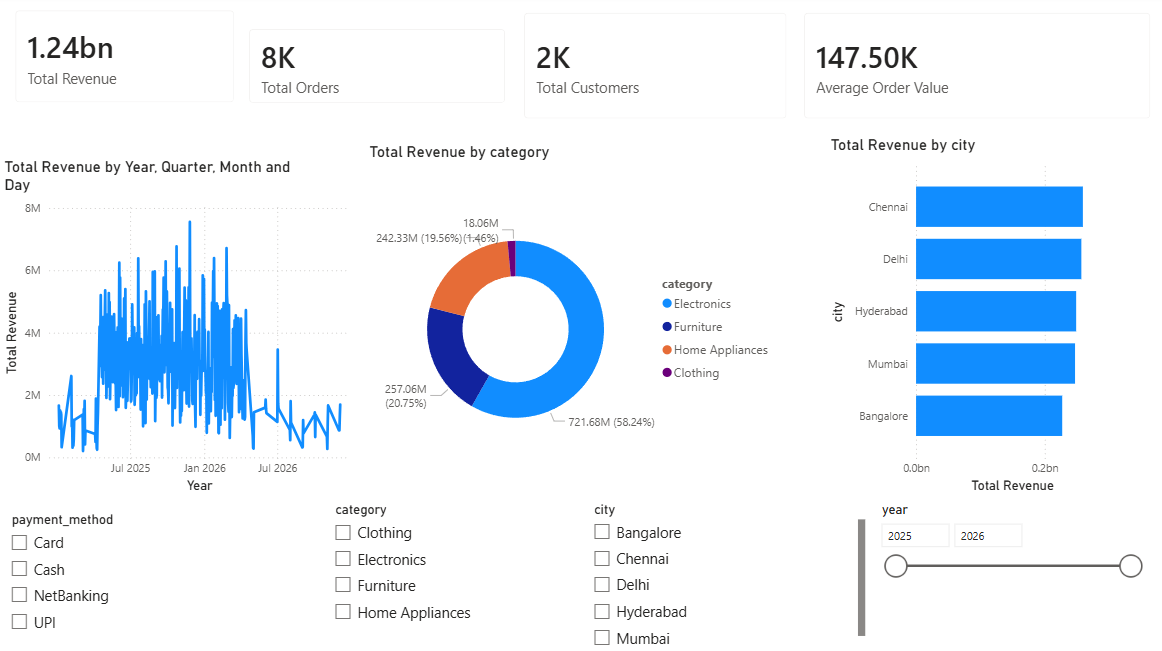

The dashboard page shown, as its layout file describes it:
{"tool":"powerbi","page":{"name":"Executive Summary","canvas":[1280,720],"ordinal":0},"visuals":[{"type":"cardVisual","fields":{"Data":["cleaned_retail_data.Total Revenue"]},"box":[0,0,274.4,135.8],"z":0},{"type":"cardVisual","fields":{"Data":["cleaned_retail_data.Total Orders"]},"box":[256.6,20.6,315.6,115.3],"z":1000},{"type":"cardVisual","fields":{"Data":["cleaned_retail_data.Total Customers"]},"box":[558.5,2.7,322.5,150.9],"z":2000},{"type":"cardVisual","fields":{"Data":["cleaned_retail_data.Average Order Value"]},"box":[865.9,2.7,414.4,150.9],"z":3000},{"type":"lineChart","fields":{"Y":["cleaned_retail_data.Total Revenue"],"Category":["cleaned_retail_data.transaction_date.Variation.Date Hierarchy.Year","cleaned_retail_data.transaction_date.Variation.Date Hierarchy.Quarter","cleaned_retail_data.transaction_date.Variation.Date Hierarchy.Month","cleaned_retail_data.transaction_date.Variation.Date Hierarchy.Day"]},"box":[0,178.4,400.7,373.2],"z":4000},{"type":"donutChart","fields":{"Category":["cleaned_retail_data.category"],"Y":["cleaned_retail_data.Total Revenue"]},"box":[400.7,161.9,456.9,389.7],"z":5000},{"type":"clusteredBarChart","fields":{"Category":["cleaned_retail_data.city"],"Y":["cleaned_retail_data.Total Revenue"]},"box":[907,153.7,330.7,397.9],"z":6000},{"type":"slicer","fields":{"Values":["cleaned_retail_data.category"]},"box":[355.4,551.6,299.1,168.8],"z":7000},{"type":"slicer","fields":{"Values":["cleaned_retail_data.city"]},"box":[639.5,551.6,315.6,168.8],"z":8000},{"type":"slicer","fields":{"Values":["cleaned_retail_data.payment_method"]},"box":[0,562.6,328,157.8],"z":9000},{"type":"slicer","fields":{"Values":["cleaned_retail_data.year"]},"box":[955.1,551.6,307.4,168.8],"z":10000}]}

Visuals, with their boxes in screenshot pixels (x1, y1, x2, y2), scaled from the page's 1280x720 canvas onto the 1162x651 screenshot:
cardVisual - cleaned_retail_data.Total Revenue: region(0, 0, 249, 123)
cardVisual - cleaned_retail_data.Total Orders: region(233, 19, 519, 123)
cardVisual - cleaned_retail_data.Total Customers: region(507, 2, 800, 139)
cardVisual - cleaned_retail_data.Average Order Value: region(786, 2, 1161, 139)
lineChart - cleaned_retail_data.Total Revenue x cleaned_retail_data.transaction_date.Variation.Date Hierarchy.Year: region(0, 161, 364, 499)
donutChart - cleaned_retail_data.category x cleaned_retail_data.Total Revenue: region(364, 146, 779, 499)
clusteredBarChart - cleaned_retail_data.city x cleaned_retail_data.Total Revenue: region(823, 139, 1124, 499)
slicer - cleaned_retail_data.category: region(323, 499, 594, 650)
slicer - cleaned_retail_data.city: region(581, 499, 867, 650)
slicer - cleaned_retail_data.payment_method: region(0, 509, 298, 650)
slicer - cleaned_retail_data.year: region(867, 499, 1146, 650)
